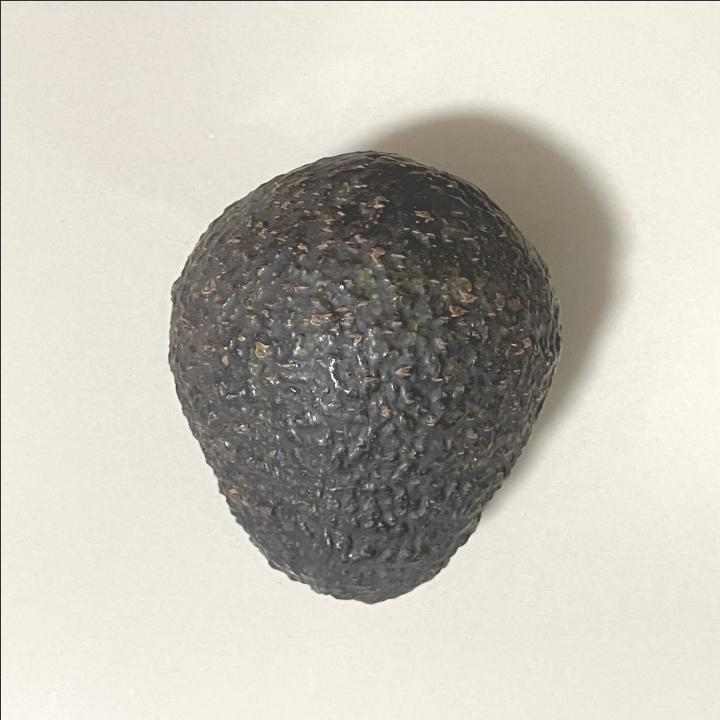Level2: (156, 144, 570, 612)
